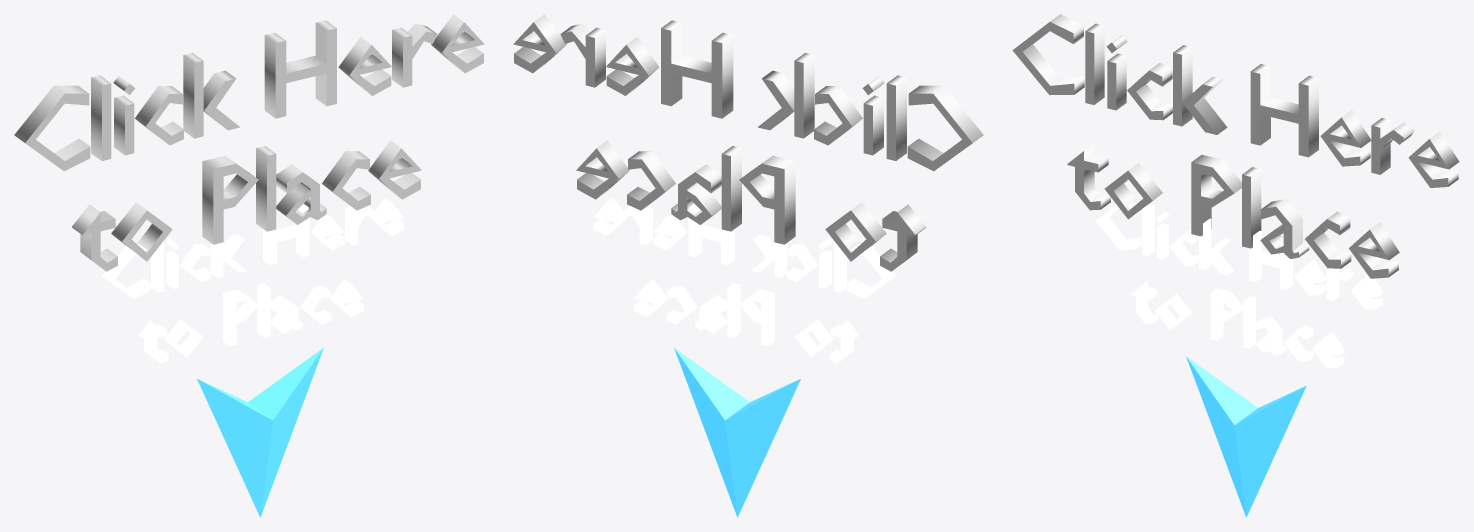
The picture shows the model from 3 angles, left to right: view 1: azimuth 30°, elevation 25°; view 2: azimuth 150°, elevation 25°; view 3: azimuth 330°, elevation 25°; orthographic projection. The views are drawn at different scales.
Visible parts, largest first — view 1: Text, Text.002, arrow_model.001, arrow_model; view 2: Text, Text.002, arrow_model.001, arrow_model; view 3: Text, Text.002, arrow_model.001, arrow_model.
Part boxes in pixels (x1,y1,x2,y2): Text: [14, 14, 484, 271]; Text.002: [102, 198, 404, 363]; arrow_model.001: [197, 351, 320, 517]; arrow_model: [254, 348, 323, 497]; Text: [513, 14, 983, 271]; Text.002: [593, 198, 895, 363]; arrow_model.001: [676, 351, 800, 517]; arrow_model: [674, 348, 742, 509]; Text: [1012, 14, 1459, 278]; Text.002: [1095, 201, 1383, 368]; arrow_model.001: [1187, 360, 1302, 517]; arrow_model: [1186, 356, 1306, 507].
Size of the model in its own units: 1.86 by 1.84 by 0.1748.
